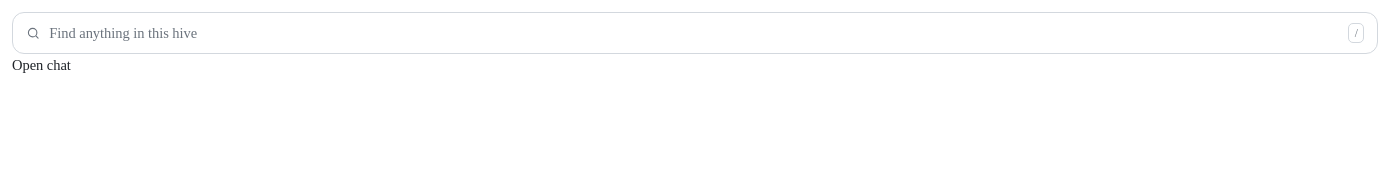
Test case: ChatSheet › Escape order: sheet, then the box, then the evidence view › closes the box next, without reopening it, and leaves the evidence view alone
Focus the dropdown at (694, 33), box x1=49 y1=13 x2=1339 y2=53
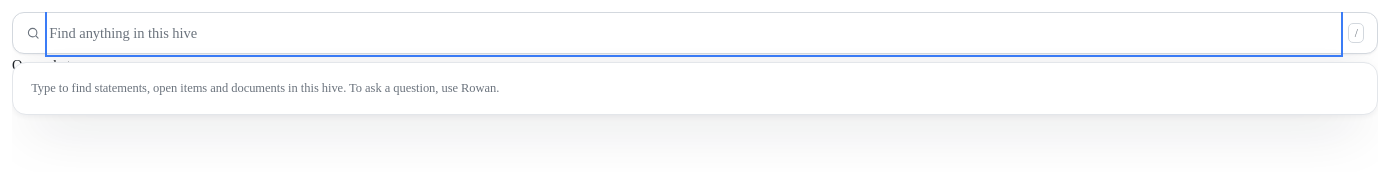
Result: the element with test id "omni-pop" is shown at x1=12 y1=62 x2=1377 y2=115
Press Escape in the dropdown, box x1=49 y1=13 x2=1339 y2=53
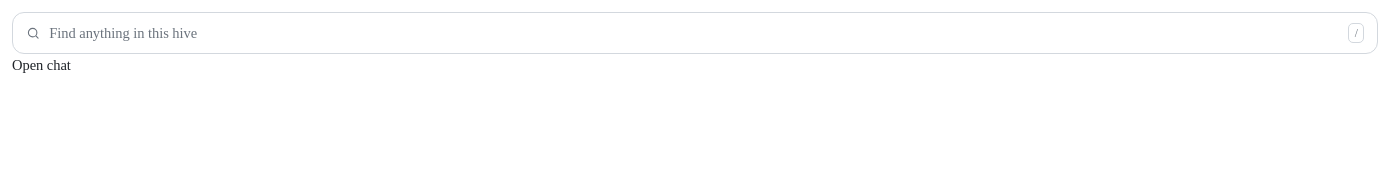
Result: the element with test id "omni-pop" is gone
